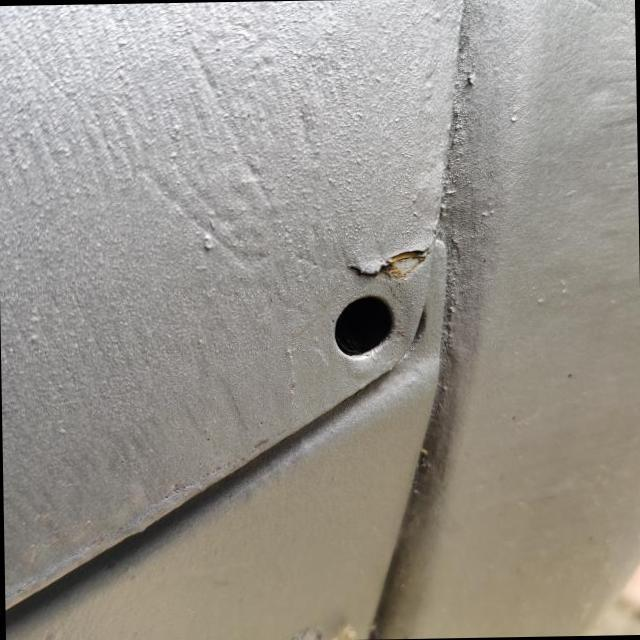Fastener Damage: (270, 228, 438, 416)
